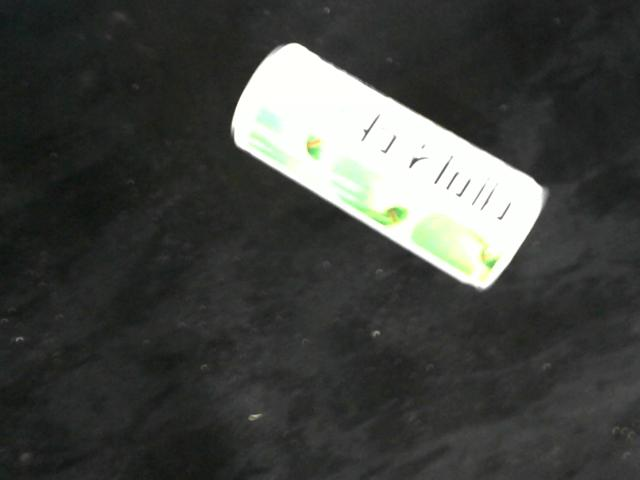can: (228, 41, 552, 293)
